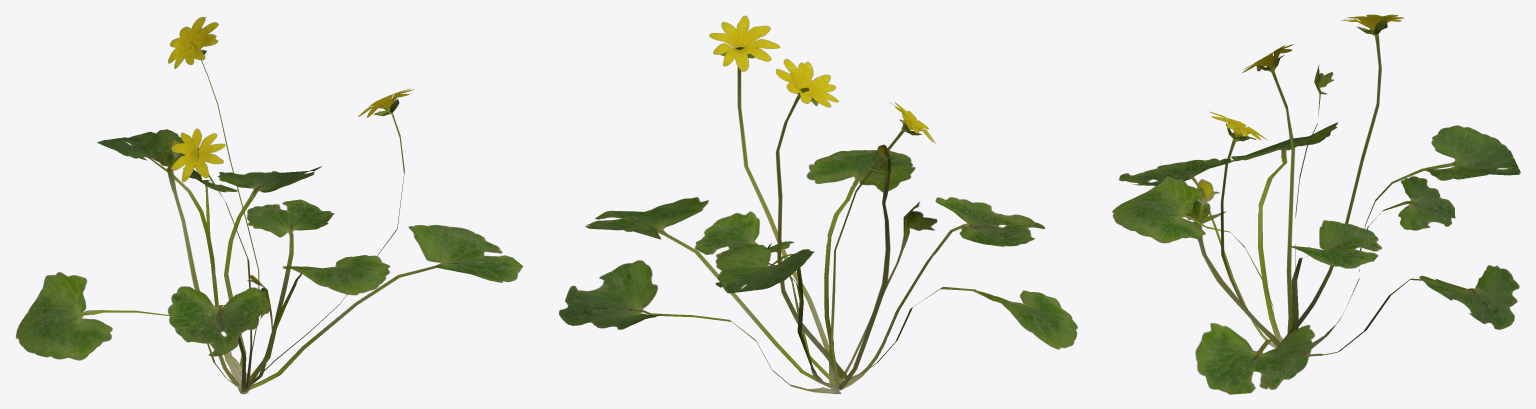
File: celandine_01.glb
3 renders of one model, left to right at view 1: azimuth 30°, elevation 25°; view 2: azimuth 150°, elevation 25°; view 3: azimuth 270°, elevation 25°, orthographic. The views are drawn at different scales.
Parts seen in each view (by area): view 1: celandine_01_c_LOD1; view 2: celandine_01_c_LOD1; view 3: celandine_01_c_LOD1.
Boxes of the visible parts, x1,y1,x2,y2 form: celandine_01_c_LOD1: [16, 17, 523, 394]; celandine_01_c_LOD1: [559, 15, 1077, 394]; celandine_01_c_LOD1: [1112, 14, 1520, 394].
Size of the model in its own units: 0.254 by 0.1757 by 0.1863.
1 material, 1 textured.
